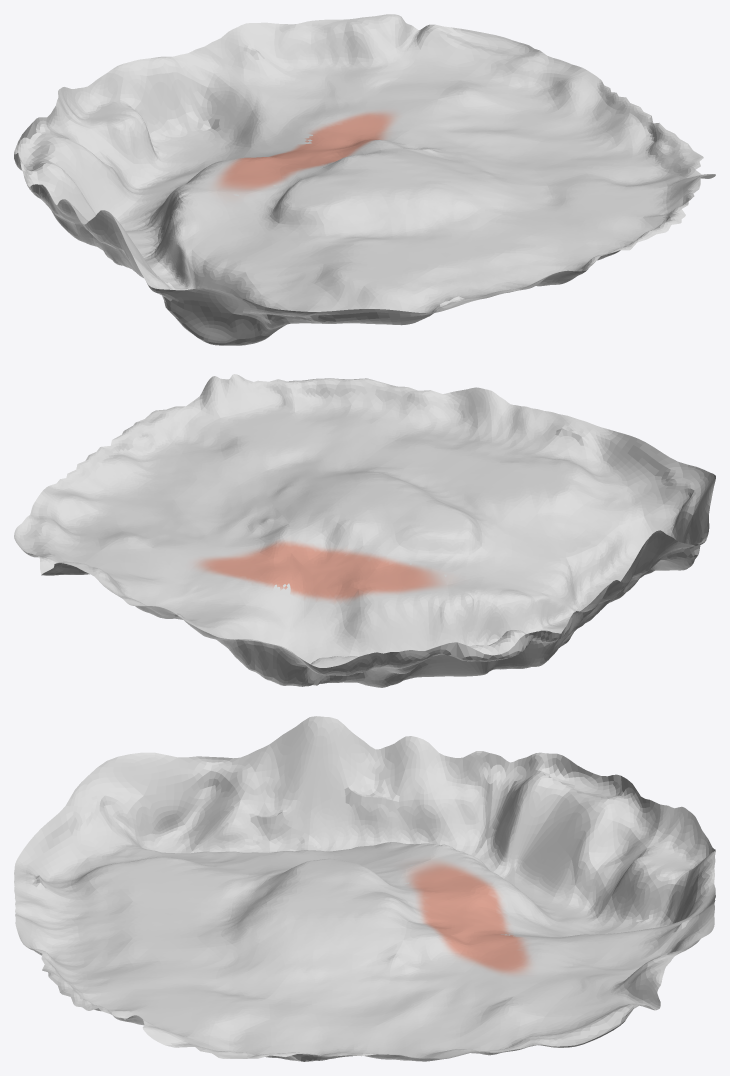
Rendered from Map.fbx.
The picture shows the model from 3 angles, top to bottom: view 1: azimuth 30°, elevation 25°; view 2: azimuth 150°, elevation 25°; view 3: azimuth 270°, elevation 25°; orthographic projection. The views are drawn at different scales.
Parts seen in each view (by area): view 1: Terrain; view 2: Terrain; view 3: Terrain.
Boxes of the visible parts, left/top/right/bottom form: Terrain: left=14, top=14, right=715, bottom=345; Terrain: left=14, top=374, right=715, bottom=687; Terrain: left=14, top=716, right=715, bottom=1061.
Size of the model in its own units: 6149 by 1095 by 6161.
